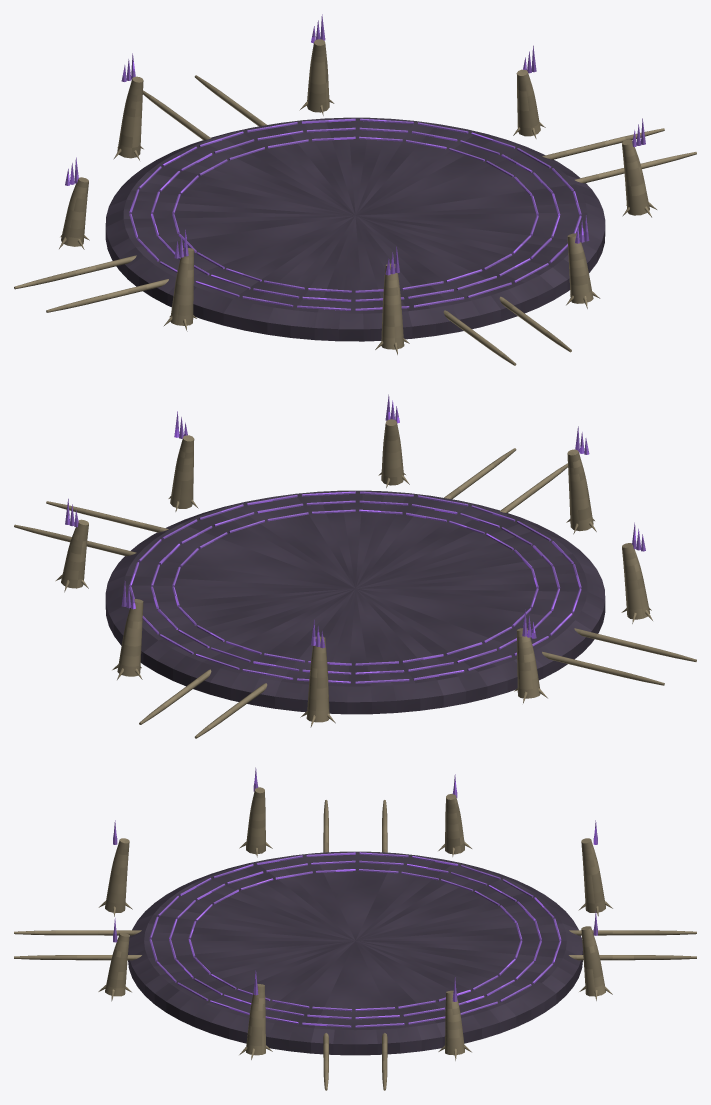
Rendered from underworld-boss-arena-rift-titan.glb.
The picture shows the model from 3 angles, top to bottom: view 1: azimuth 30°, elevation 25°; view 2: azimuth 150°, elevation 25°; view 3: azimuth 270°, elevation 25°; orthographic projection. The views are drawn at different scales.
Parts seen in each view (by area): view 1: combat-foundation, floor-inlay-2, floor-inlay-1, floor-inlay-0, buttress-2, buttress-5, buttress-4, buttress-7, buttress-1, buttress-3, buttress-6, buttress-0 (+5 smaller); view 2: combat-foundation, floor-inlay-2, floor-inlay-1, floor-inlay-0, buttress-5, buttress-2, buttress-4, buttress-1, buttress-7, buttress-3, buttress-0, buttress-6 (+6 smaller); view 3: combat-foundation, floor-inlay-2, floor-inlay-1, floor-inlay-0, buttress-2, buttress-5, buttress-1, buttress-7, buttress-4, buttress-6, buttress-0, buttress-3 (+4 smaller).
Boxes of the visible parts, x1=… form: combat-foundation: x1=105, y1=117, x2=605, y2=341; floor-inlay-2: x1=129, y1=118, x2=581, y2=310; floor-inlay-1: x1=150, y1=127, x2=560, y2=301; floor-inlay-0: x1=172, y1=136, x2=538, y2=292; buttress-2: x1=117, y1=76, x2=143, y2=158; buttress-5: x1=381, y1=263, x2=404, y2=349; buttress-4: x1=170, y1=248, x2=194, y2=325; buttress-7: x1=622, y1=139, x2=649, y2=215; buttress-1: x1=307, y1=39, x2=329, y2=112; buttress-3: x1=61, y1=177, x2=88, y2=246; buttress-6: x1=567, y1=233, x2=593, y2=303; buttress-0: x1=516, y1=69, x2=540, y2=136; combat-foundation: x1=105, y1=490, x2=605, y2=714; floor-inlay-2: x1=129, y1=491, x2=581, y2=683; floor-inlay-1: x1=150, y1=500, x2=560, y2=674; floor-inlay-0: x1=172, y1=509, x2=538, y2=665; buttress-5: x1=567, y1=449, x2=593, y2=531; buttress-2: x1=306, y1=636, x2=329, y2=722; buttress-4: x1=622, y1=543, x2=649, y2=619; buttress-1: x1=117, y1=599, x2=143, y2=676; buttress-7: x1=170, y1=435, x2=194, y2=508; buttress-3: x1=516, y1=628, x2=540, y2=698; buttress-0: x1=61, y1=519, x2=88, y2=588; buttress-6: x1=381, y1=419, x2=403, y2=485; combat-foundation: x1=128, y1=851, x2=583, y2=1055; floor-inlay-2: x1=149, y1=852, x2=561, y2=1027; floor-inlay-1: x1=169, y1=860, x2=541, y2=1019; floor-inlay-0: x1=188, y1=869, x2=522, y2=1011; buttress-2: x1=581, y1=838, x2=605, y2=912; buttress-5: x1=105, y1=838, x2=129, y2=912; buttress-1: x1=581, y1=926, x2=605, y2=996; buttress-7: x1=246, y1=984, x2=265, y2=1055; buttress-4: x1=246, y1=787, x2=265, y2=854; buttress-6: x1=105, y1=933, x2=129, y2=996; buttress-0: x1=445, y1=990, x2=464, y2=1055; buttress-3: x1=445, y1=794, x2=464, y2=854.
Bounding box in the file's own units: 42 × 6.7 × 42.
Materials: 3 (3 with a texture image).
